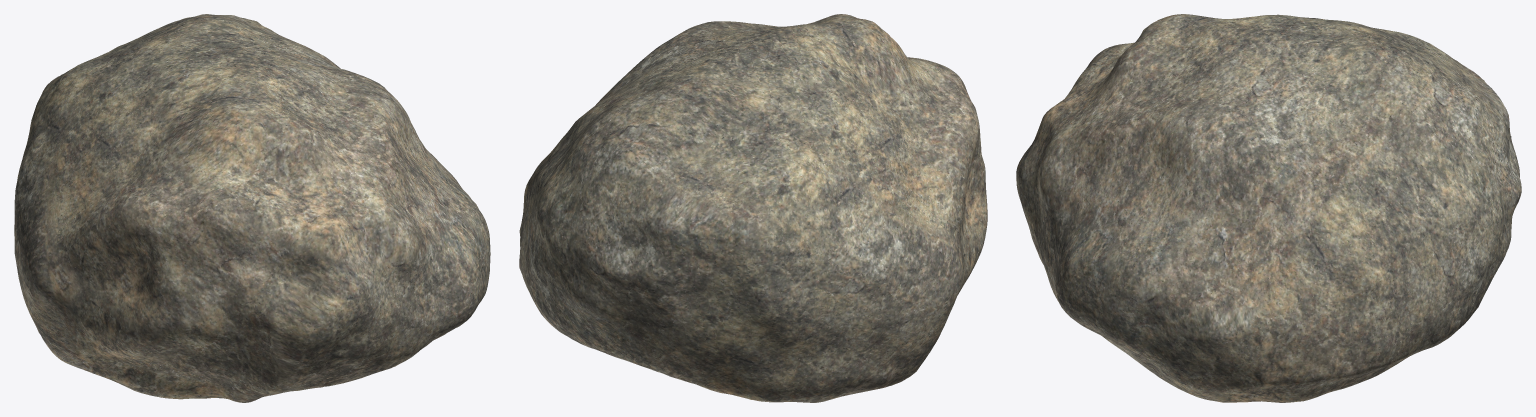
Rendered from Rock 01.obj.
The picture shows the model from 3 angles, left to right: view 1: azimuth 30°, elevation 25°; view 2: azimuth 150°, elevation 25°; view 3: azimuth 270°, elevation 25°; orthographic projection.
Parts seen in each view (by area): view 1: Rock_01.obj; view 2: Rock_01.obj; view 3: Rock_01.obj.
Boxes of the visible parts, <box> form: Rock_01.obj: <box>14,14,490,402</box>; Rock_01.obj: <box>519,14,987,402</box>; Rock_01.obj: <box>1016,14,1521,402</box>.
Bounding box in the file's own units: 3.63 × 2.64 × 3.89.
Materials: 1 (1 with a texture image).
